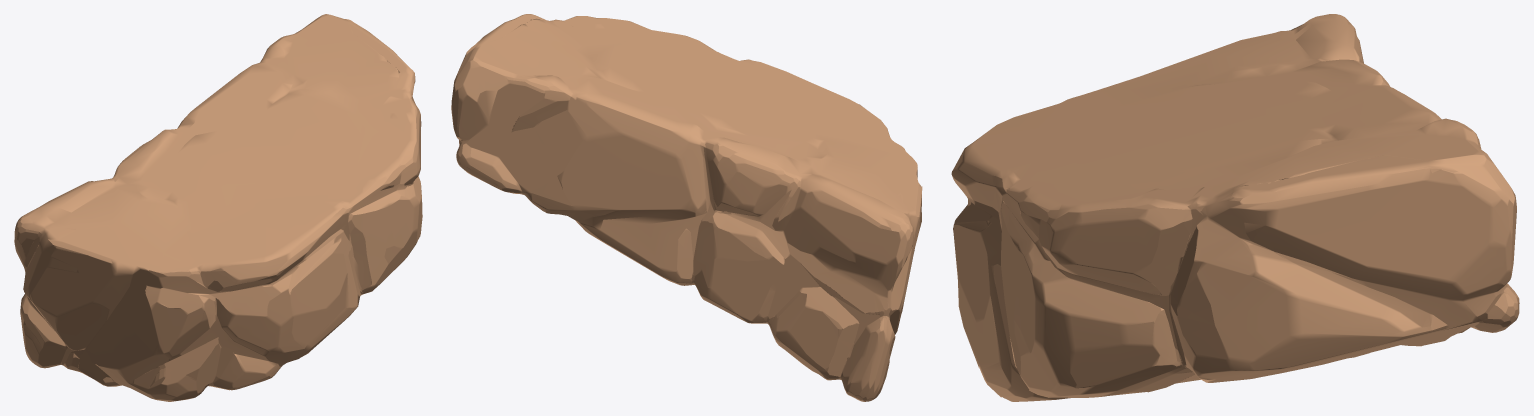
3 views of the same model, side by side, from view 1: azimuth 30°, elevation 25°; view 2: azimuth 150°, elevation 25°; view 3: azimuth 270°, elevation 25° (orthographic). The views are drawn at different scales.
Parts seen in each view (by area): view 1: Mesh_13_LOD0; view 2: Mesh_13_LOD0; view 3: Mesh_13_LOD0.
Part boxes in pixels (box(x1,y1,x2,y2)): Mesh_13_LOD0: box(14, 14, 422, 401); Mesh_13_LOD0: box(451, 14, 922, 401); Mesh_13_LOD0: box(951, 14, 1519, 401).
Size of what is drawn, in the model's own units: 3490 by 2212 by 2479.
